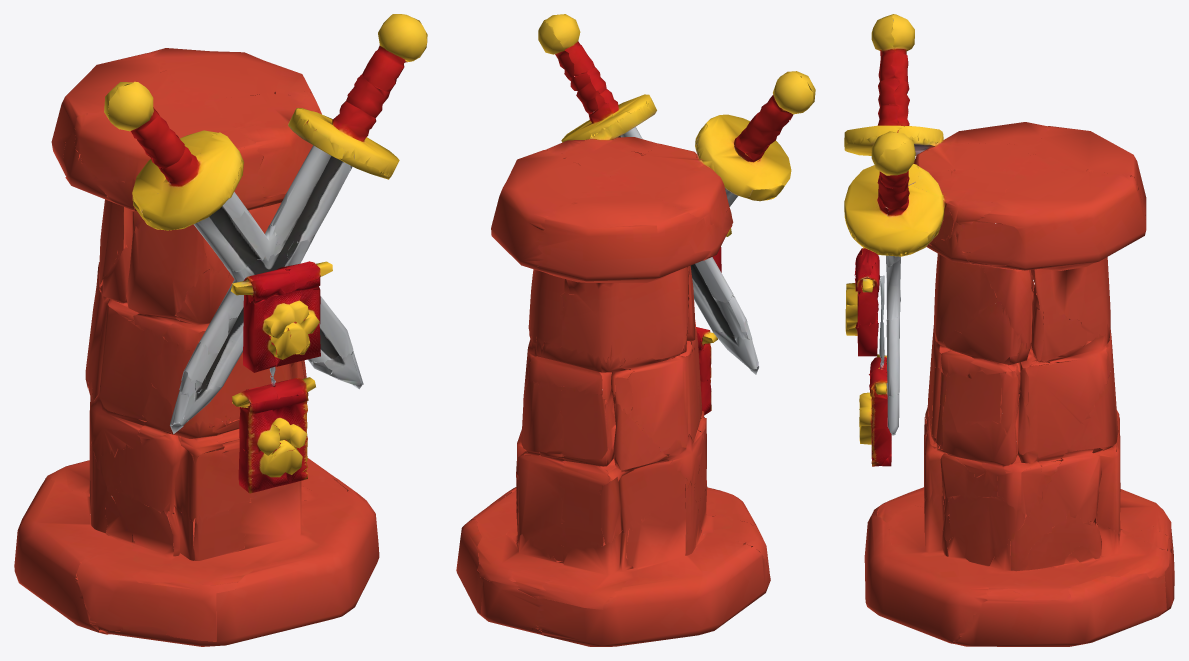
Rendered from challenge.glb.
3 renders of one model, left to right at view 1: azimuth 30°, elevation 25°; view 2: azimuth 150°, elevation 25°; view 3: azimuth 270°, elevation 25°, orthographic. The views are drawn at different scales.
Visible parts, largest first — view 1: challenge; view 2: challenge; view 3: challenge.
Part boxes in pixels (x1=…): challenge: x1=14, y1=14, x2=427, y2=646; challenge: x1=456, y1=14, x2=815, y2=646; challenge: x1=844, y1=14, x2=1174, y2=646.
Bounding box in the file's own units: 0.574 × 1 × 0.5861.
1 material, 1 textured.
